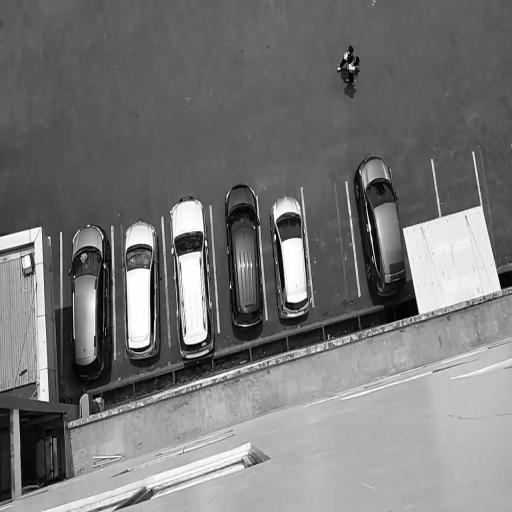Car: (166, 192, 221, 371), (352, 154, 412, 306), (67, 220, 114, 388), (223, 178, 267, 337), (268, 189, 314, 330), (122, 217, 164, 367)
Space Available: (303, 182, 360, 307), (475, 147, 512, 265), (391, 160, 441, 229), (433, 153, 481, 218)
